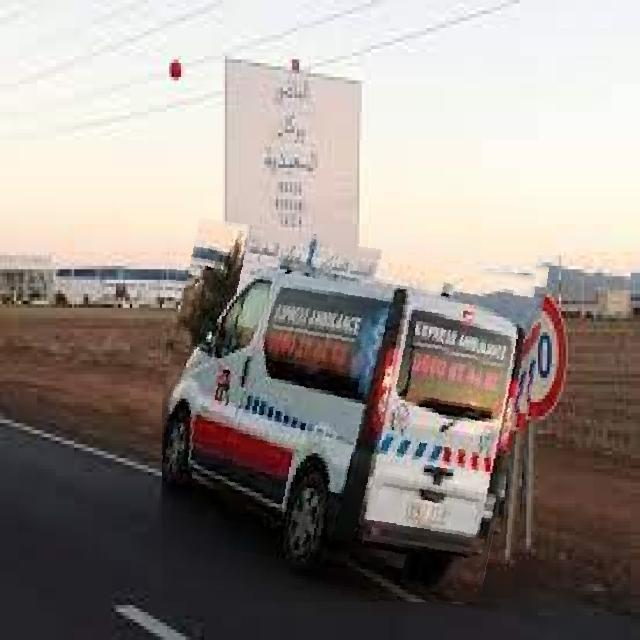ambulance: (162, 230, 538, 602)
